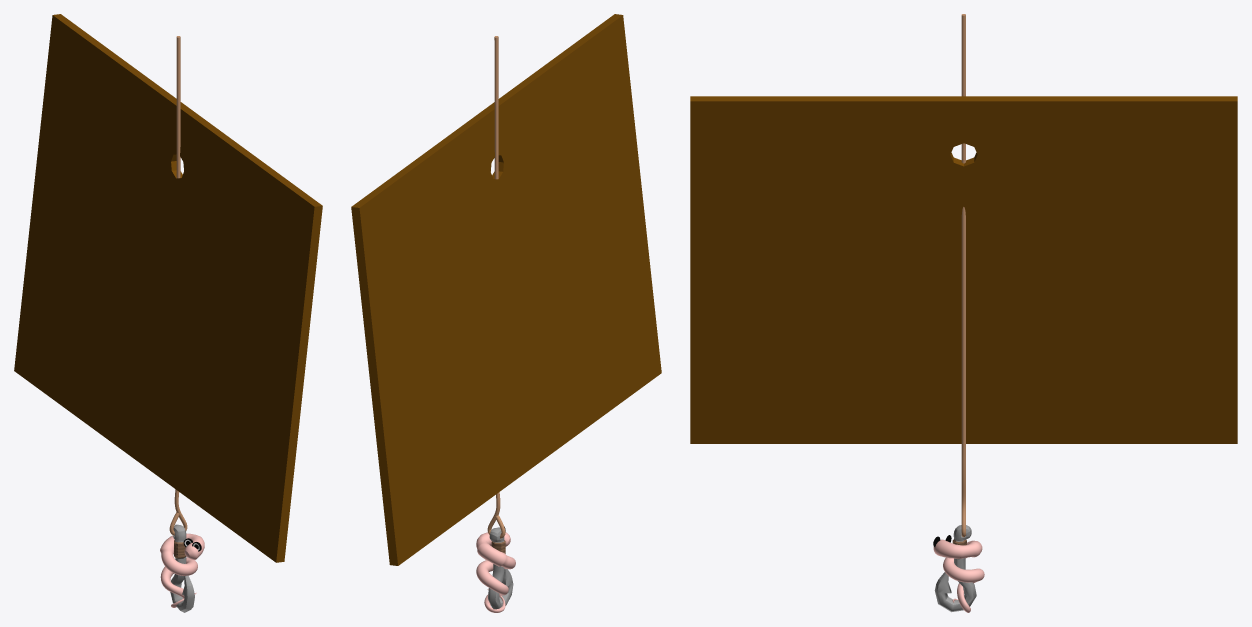
File: fish_hook.fbx
3 renders of one model, left to right at view 1: azimuth 30°, elevation 25°; view 2: azimuth 150°, elevation 25°; view 3: azimuth 270°, elevation 25°, orthographic. The views are drawn at different scales.
Visible parts, largest first — view 1: sign, worm, hook, line; view 2: sign, worm, line, hook; view 3: sign, line, worm, hook.
Boxes of the visible parts, left/top/right/bottom form: sign: left=14, top=14, right=322, bottom=562; worm: left=160, top=533, right=204, bottom=607; hook: left=170, top=524, right=194, bottom=612; line: left=169, top=36, right=187, bottom=535; sign: left=351, top=14, right=661, bottom=565; worm: left=476, top=532, right=515, bottom=612; line: left=487, top=36, right=505, bottom=538; hook: left=488, top=527, right=513, bottom=609; sign: left=690, top=96, right=1237, bottom=443; line: left=961, top=14, right=965, bottom=537; worm: left=933, top=539, right=984, bottom=612; hook: left=934, top=525, right=976, bottom=612.
Size of the model in its own units: 6.46 by 65.39 by 54.31.
